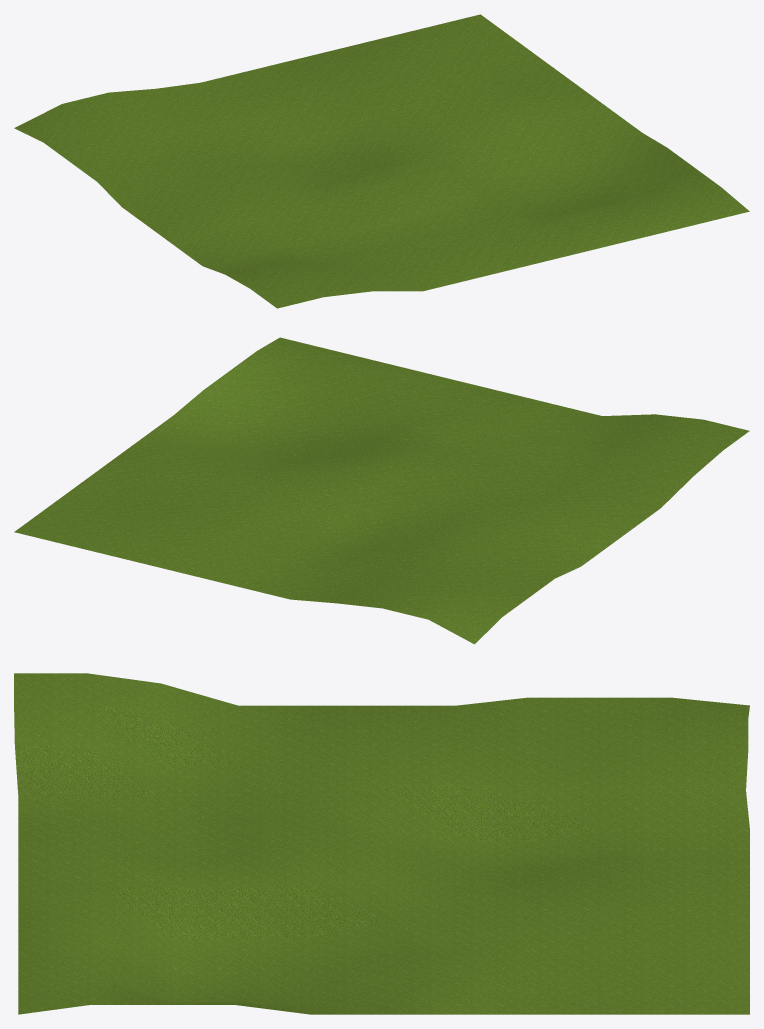
The model's file is Ground.fbx.
3 renders of one model, top to bottom at view 1: azimuth 30°, elevation 25°; view 2: azimuth 150°, elevation 25°; view 3: azimuth 270°, elevation 25°, orthographic. The views are drawn at different scales.
Visible parts, largest first — view 1: Ground; view 2: Ground; view 3: Ground.
Part boxes in pixels (left/top/right/bottom): Ground: left=14, top=14, right=749, bottom=308; Ground: left=14, top=337, right=749, bottom=644; Ground: left=14, top=673, right=749, bottom=1014.
Bounding box in the file's own units: 10167 × 716 × 10060.
